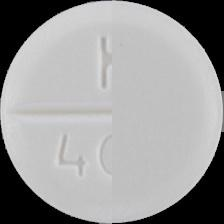68084-499: (0, 0, 224, 224)
